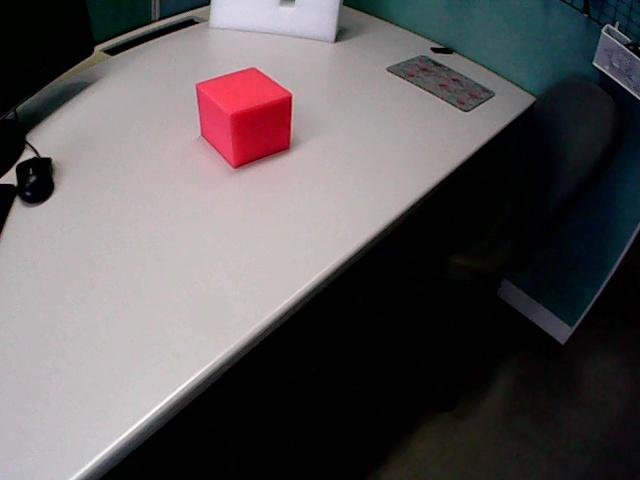red_block: (196, 68, 291, 167)
